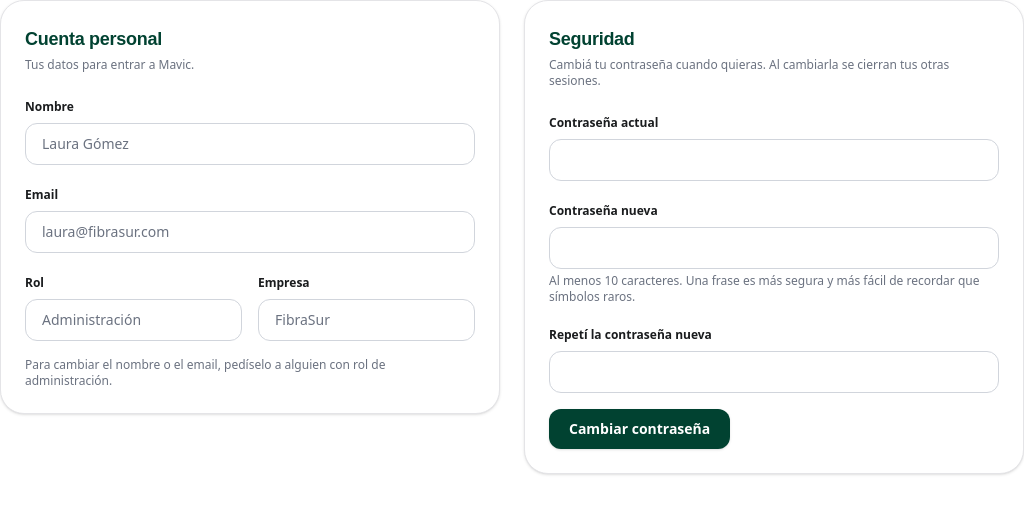
Scenario: Mi cuenta: cambiar contraseña › si la repetición no coincide, avisa y no manda nada
Expected: the field showing "Laura Gómez" is shown, [25,123,475,165]
Type "demo-mavic-2026" into the password field labelled "Contraseña actual" at (774,160), box [549,139,999,181]
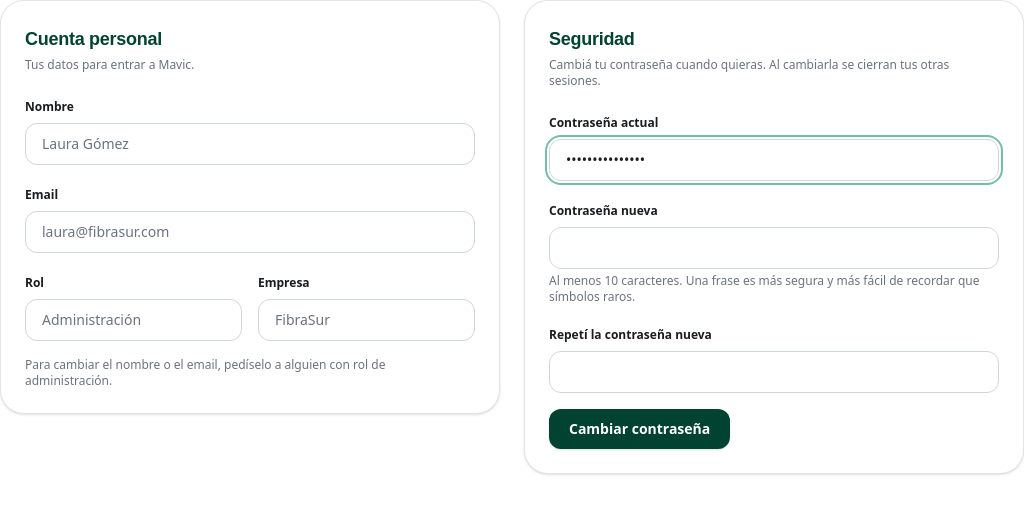
Type "una frase larga" into the password field labelled "Contraseña nueva" at (774,248), box [549,227,999,269]
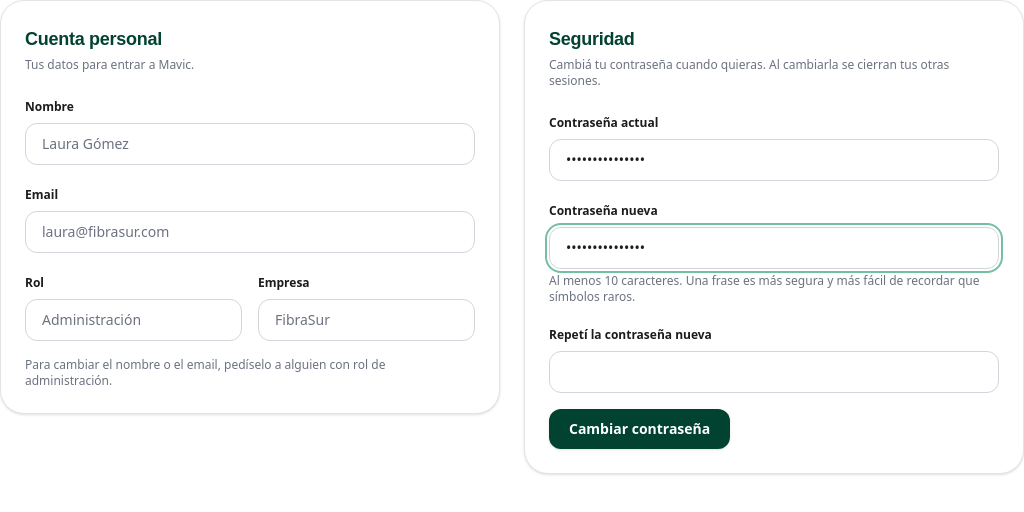
Type "otra frase larga" into the password field labelled "Repetí la contraseña nueva" at (774,372), box [549,351,999,393]
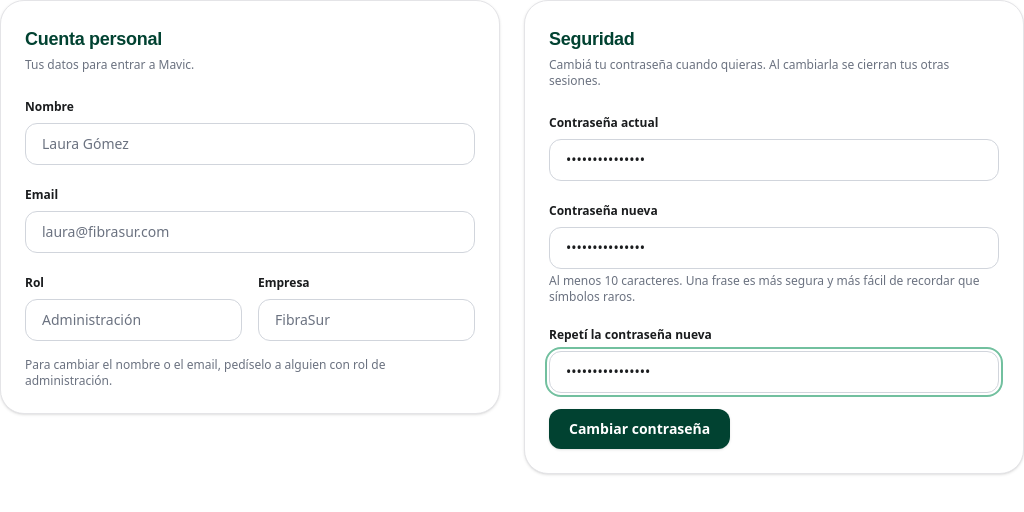
Click the button "Cambiar contraseña" at (640,429), box [549,409,730,449]
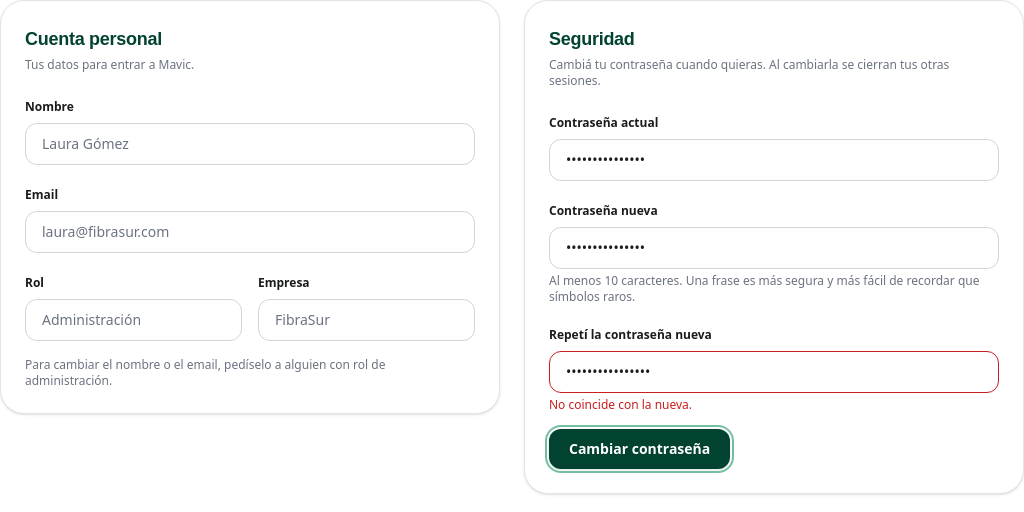
Now the text "No coincide con la nueva." is shown, box [549,396,692,413]
